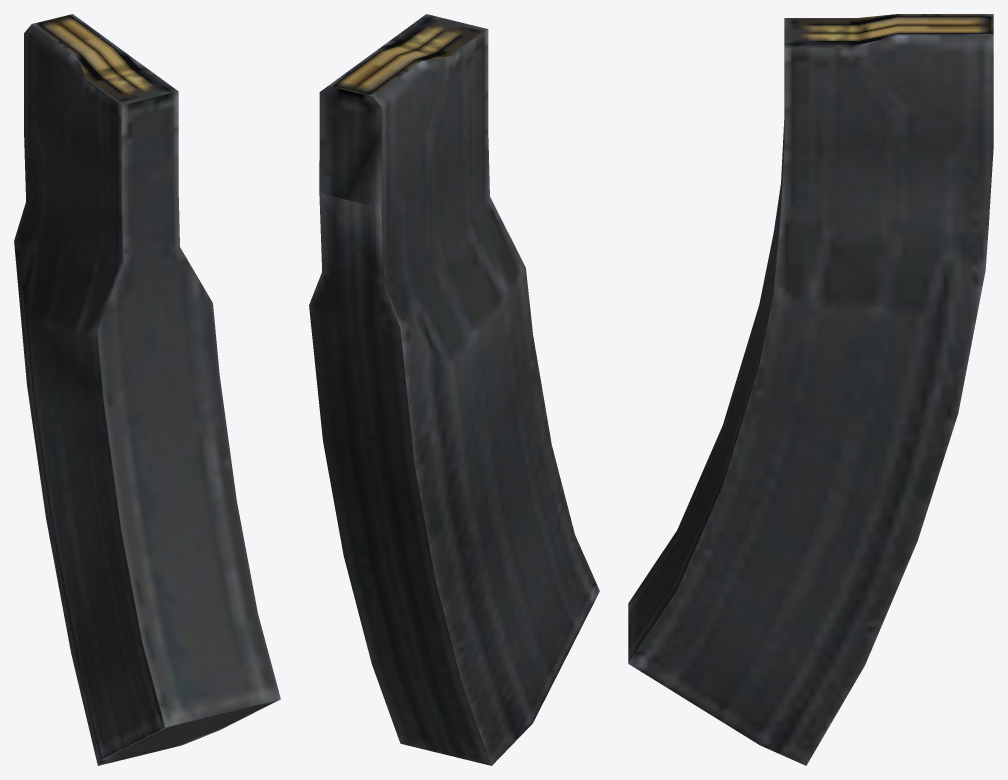
File: Assault_Rifle_bq_dj_01_Magazine_Main_(000462).glb
3 views of the same model, side by side, from view 1: azimuth 30°, elevation 25°; view 2: azimuth 150°, elevation 25°; view 3: azimuth 270°, elevation 25° (orthographic). The views are drawn at different scales.
Parts seen in each view (by area): view 1: bq_dj_01; view 2: bq_dj_01; view 3: bq_dj_01.
Boxes of the visible parts, left/top/right/bottom form: bq_dj_01: left=14, top=14, right=280, bottom=765; bq_dj_01: left=309, top=14, right=599, bottom=765; bq_dj_01: left=628, top=14, right=993, bottom=765.
Size of the model in its own units: 0.0577 by 0.3179 by 0.1463.
1 material, 1 textured.
